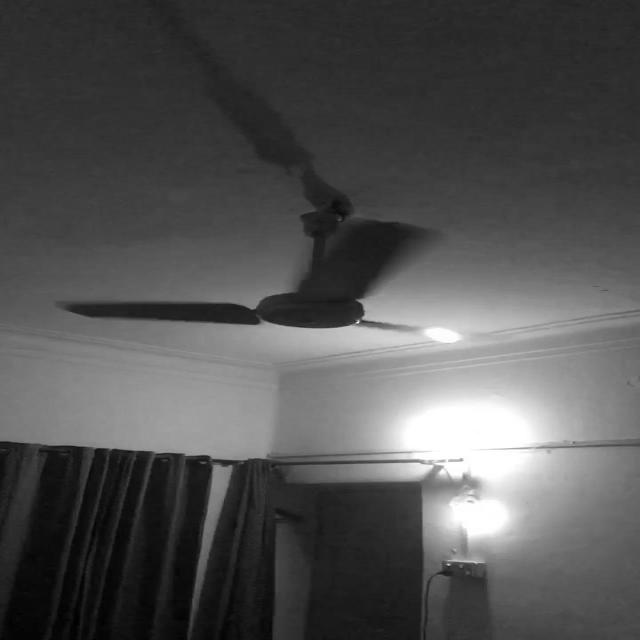fan: (40, 208, 516, 344)
